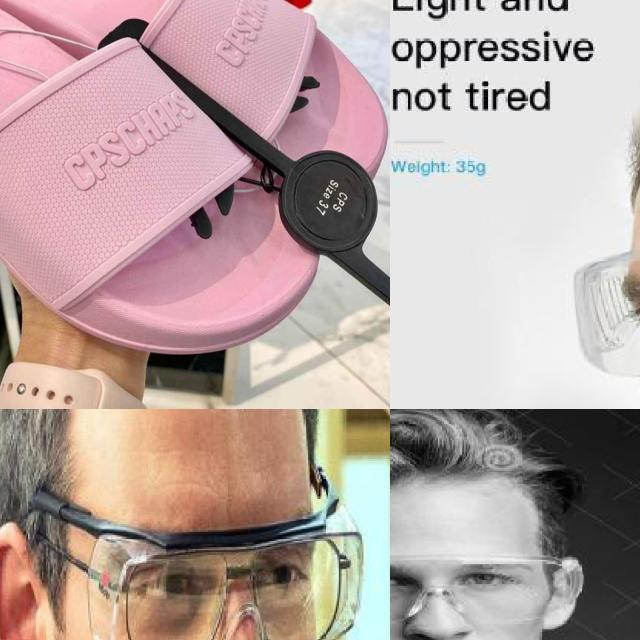No_Ear-Protection: (0, 521, 63, 640)
Sandals: (0, 0, 390, 373)
face_nomask: (115, 541, 312, 640), (390, 560, 516, 640)
glasses: (18, 488, 367, 640), (390, 553, 574, 627)
head_nohelmet: (390, 410, 565, 521)
person: (390, 410, 640, 640)
